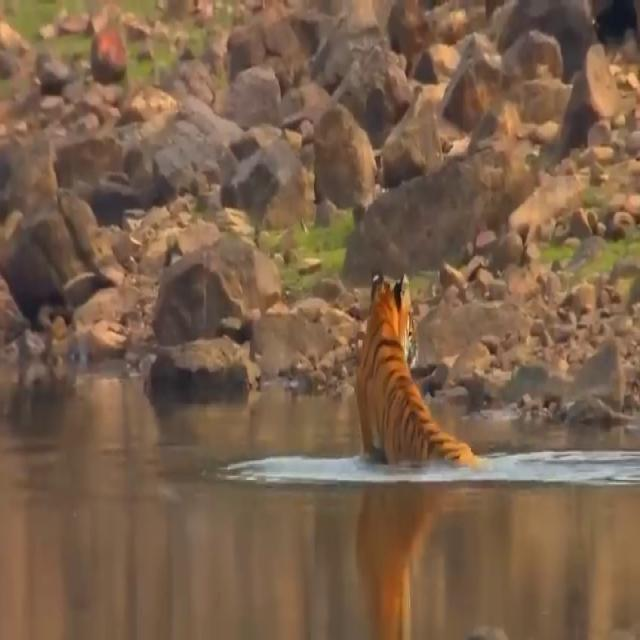tiger: (354, 266, 484, 462)
